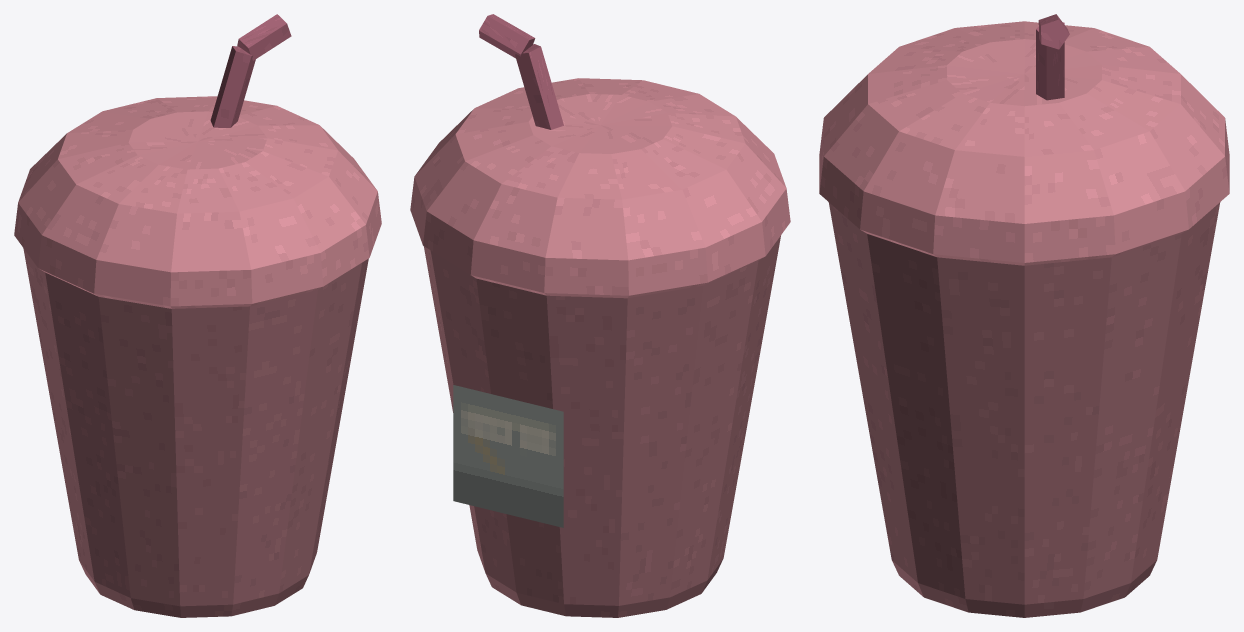
File: protein_shake.glb
3 renders of one model, left to right at view 1: azimuth 30°, elevation 25°; view 2: azimuth 150°, elevation 25°; view 3: azimuth 270°, elevation 25°, orthographic. The views are drawn at different scales.
Visible parts, largest first — view 1: block_tapered cold-drink cup, block_domed cover, block_bent drinking straw 0, block_bent drinking straw 1; view 2: block_tapered cold-drink cup, block_domed cover, block_cup mark, block_bent drinking straw 0, block_bent drinking straw 1; view 3: block_tapered cold-drink cup, block_domed cover, block_bent drinking straw 0, block_bent drinking straw 1.
Boxes of the visible parts, x1,y1,x2,y2 form: block_tapered cold-drink cup: (23,248,368,617); block_domed cover: (14,96,381,308); block_bent drinking straw 0: (210,46,255,127); block_bent drinking straw 1: (237,14,291,60); block_tapered cold-drink cup: (423,236,780,617); block_domed cover: (410,78,790,298); block_cup mark: (453,385,563,527); block_bent drinking straw 0: (514,44,563,129); block_bent drinking straw 1: (479,14,535,58); block_tapered cold-drink cup: (828,202,1220,617); block_domed cover: (819,21,1229,265); block_bent drinking straw 0: (1036,22,1064,100); block_bent drinking straw 1: (1038,14,1069,49).
Bounding box in the file's own units: 0.1309 × 0.2048 × 0.1276.
Materials: 1 (1 with a texture image).
